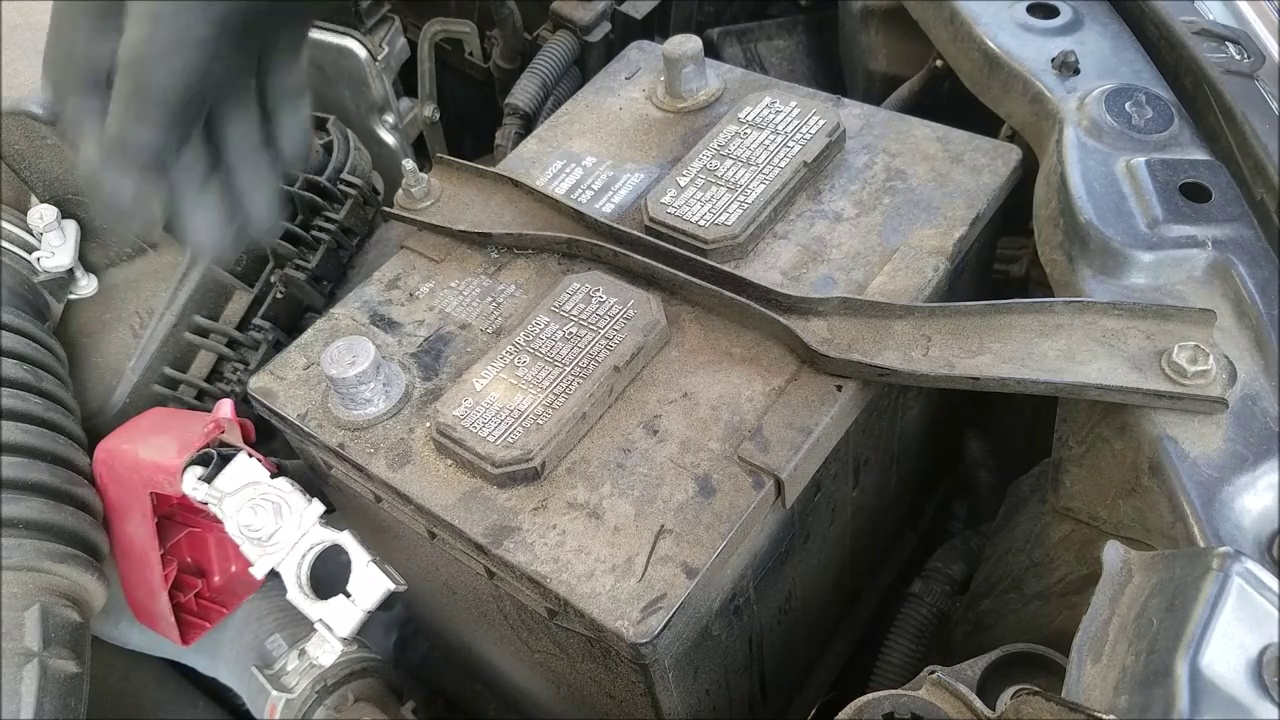battery: (221, 41, 1026, 628)
neg_disconnected: (605, 23, 757, 135)
pos_disconnected: (104, 315, 420, 621)
